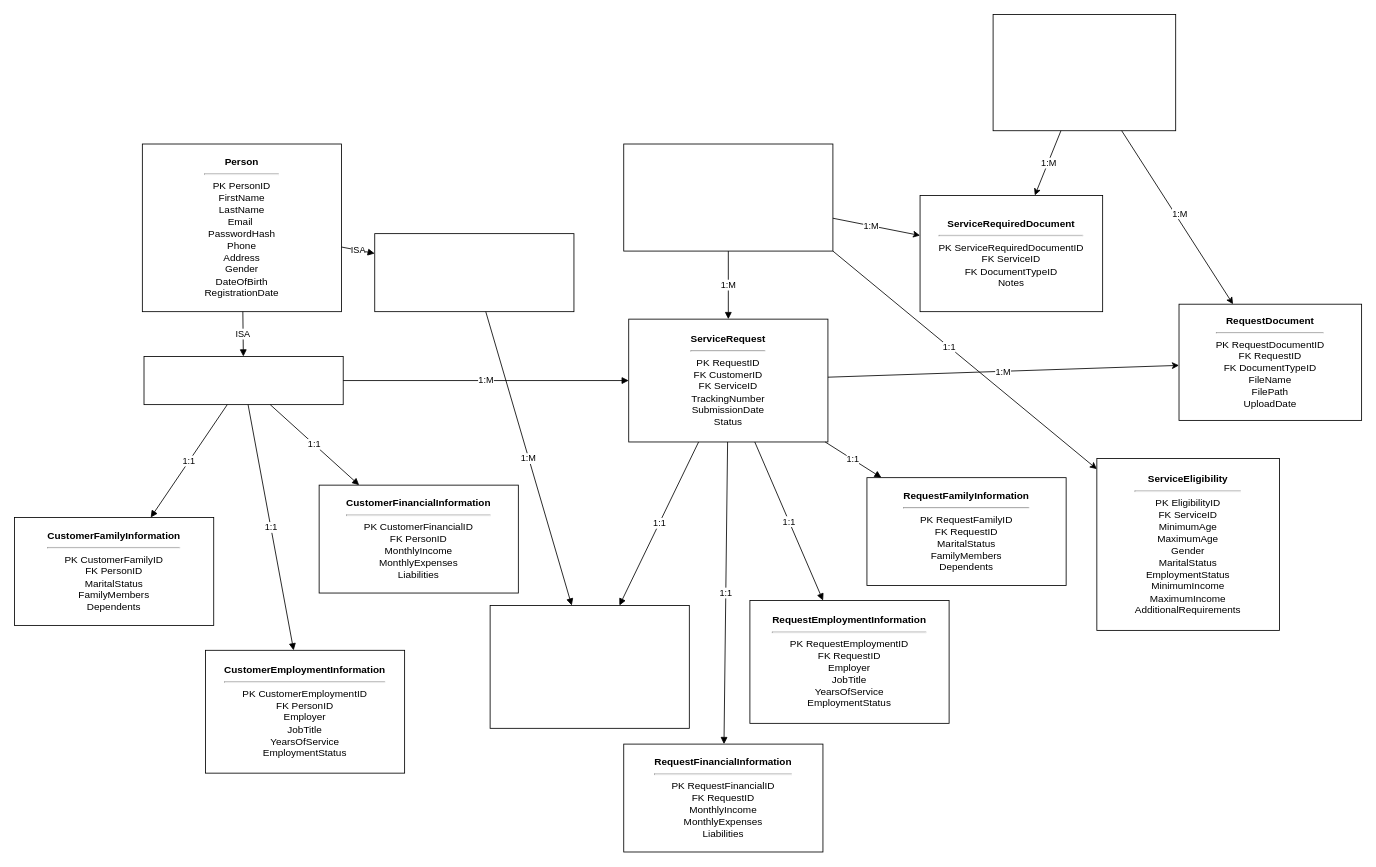
This 1376x867 diagram has some shape labels left out. Here are the shapes that lost their labels. From the top down, the box of each, then its label:
(992, 14, 1176, 131): DocumentType PK DocumentTypeID DocumentName
(623, 143, 833, 251): Service PK ServiceID ServiceName Description
(374, 233, 574, 312): Specialist PK/FK PersonID Department JobTitle
(143, 356, 343, 405): Customer PK/FK PersonID
(489, 605, 689, 728): Review PK ReviewID FK RequestID FK SpecialistID Decision ReviewNotes ReviewDate
